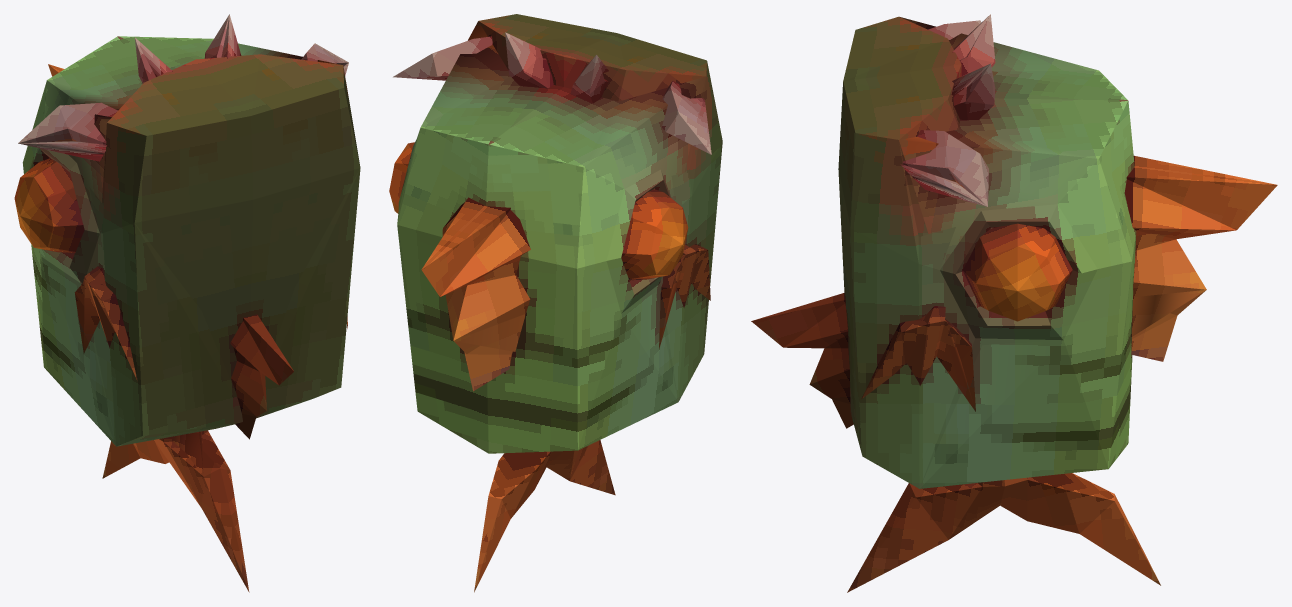
The model's file is item_fish_cube.glb.
3 renders of one model, left to right at view 1: azimuth 30°, elevation 25°; view 2: azimuth 150°, elevation 25°; view 3: azimuth 270°, elevation 25°, orthographic. The views are drawn at different scales.
Parts seen in each view (by area): view 1: CubeFish; view 2: CubeFish; view 3: CubeFish.
Part boxes in pixels (x1,y1,x2,y2): CubeFish: (14,14,360,592); CubeFish: (389,14,722,592); CubeFish: (751,14,1277,592).
Size of the model in its own units: 0.1606 by 0.24 by 0.2068.
Materials: 1 (1 with a texture image).
